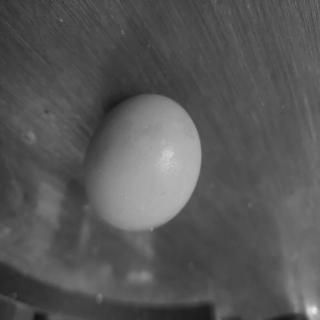Telur: (81, 90, 205, 238)
